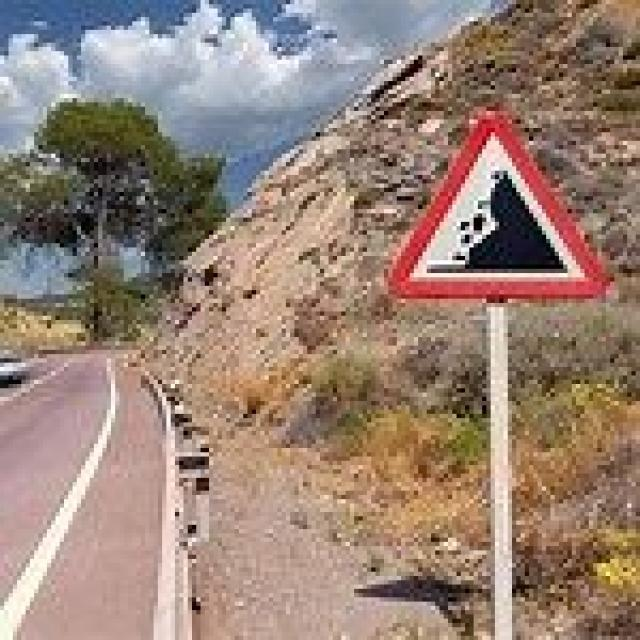falling rocks: (376, 98, 611, 307)
